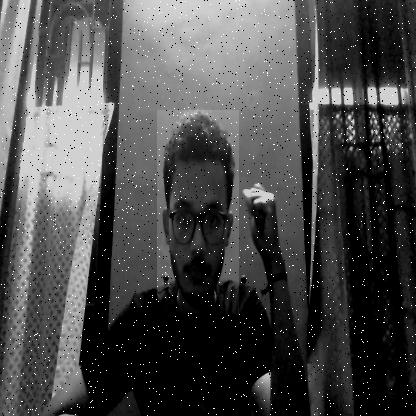Normal: (157, 110, 239, 314)
